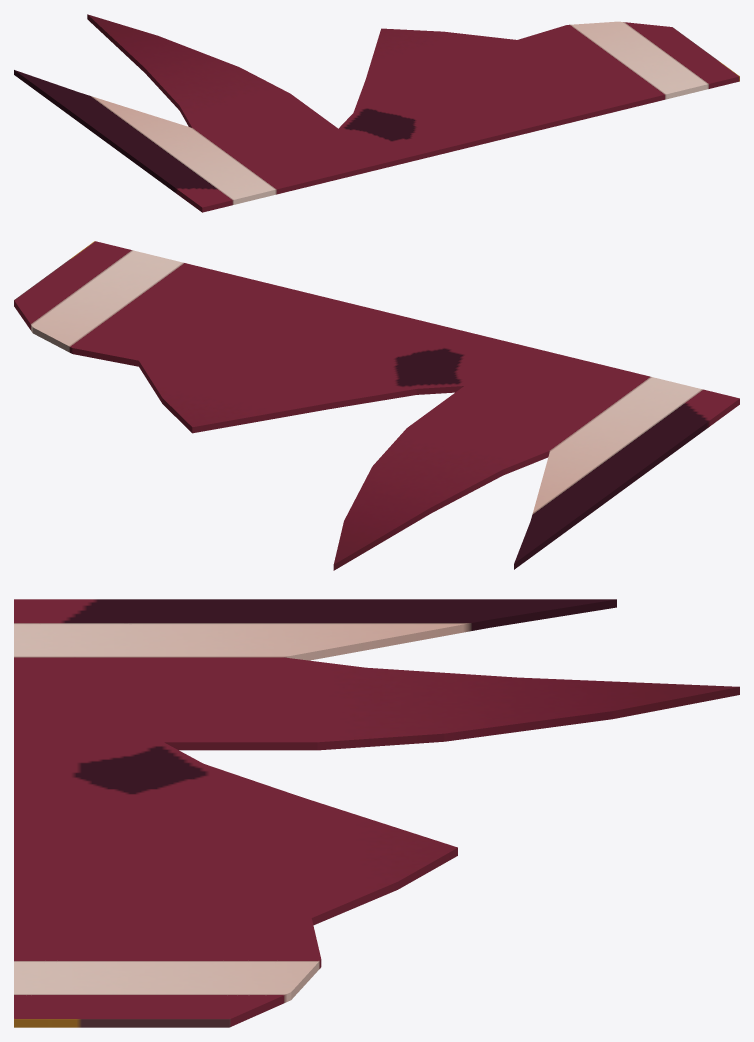
Rendered from Carpet 01 End 04.fbx.
The picture shows the model from 3 angles, top to bottom: view 1: azimuth 30°, elevation 25°; view 2: azimuth 150°, elevation 25°; view 3: azimuth 270°, elevation 25°; orthographic projection. The views are drawn at different scales.
Parts seen in each view (by area): view 1: Carpet 01 End 04.001; view 2: Carpet 01 End 04.001; view 3: Carpet 01 End 04.001.
Part boxes in pixels (x1,y1,x2,y2): Carpet 01 End 04.001: (14,14,739,212); Carpet 01 End 04.001: (14,241,739,570); Carpet 01 End 04.001: (14,599,739,1027).
Size of the model in its own units: 167 by 1.5 by 122.
